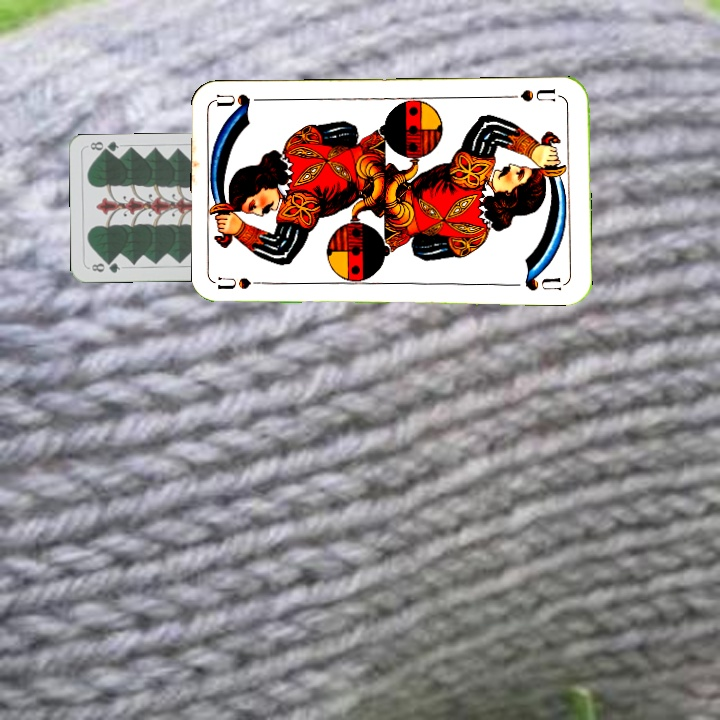G8: (87, 258, 123, 276)
SU: (216, 273, 276, 291), (504, 85, 558, 104)
